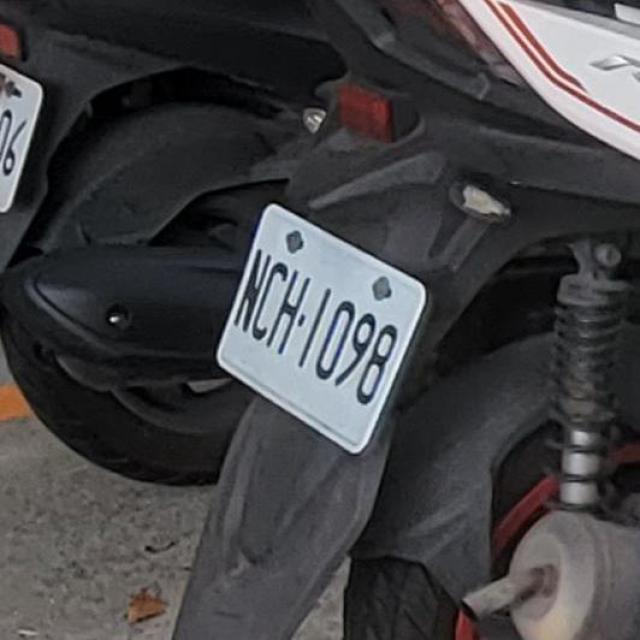W: (198, 174, 446, 480), (0, 4, 61, 222)
